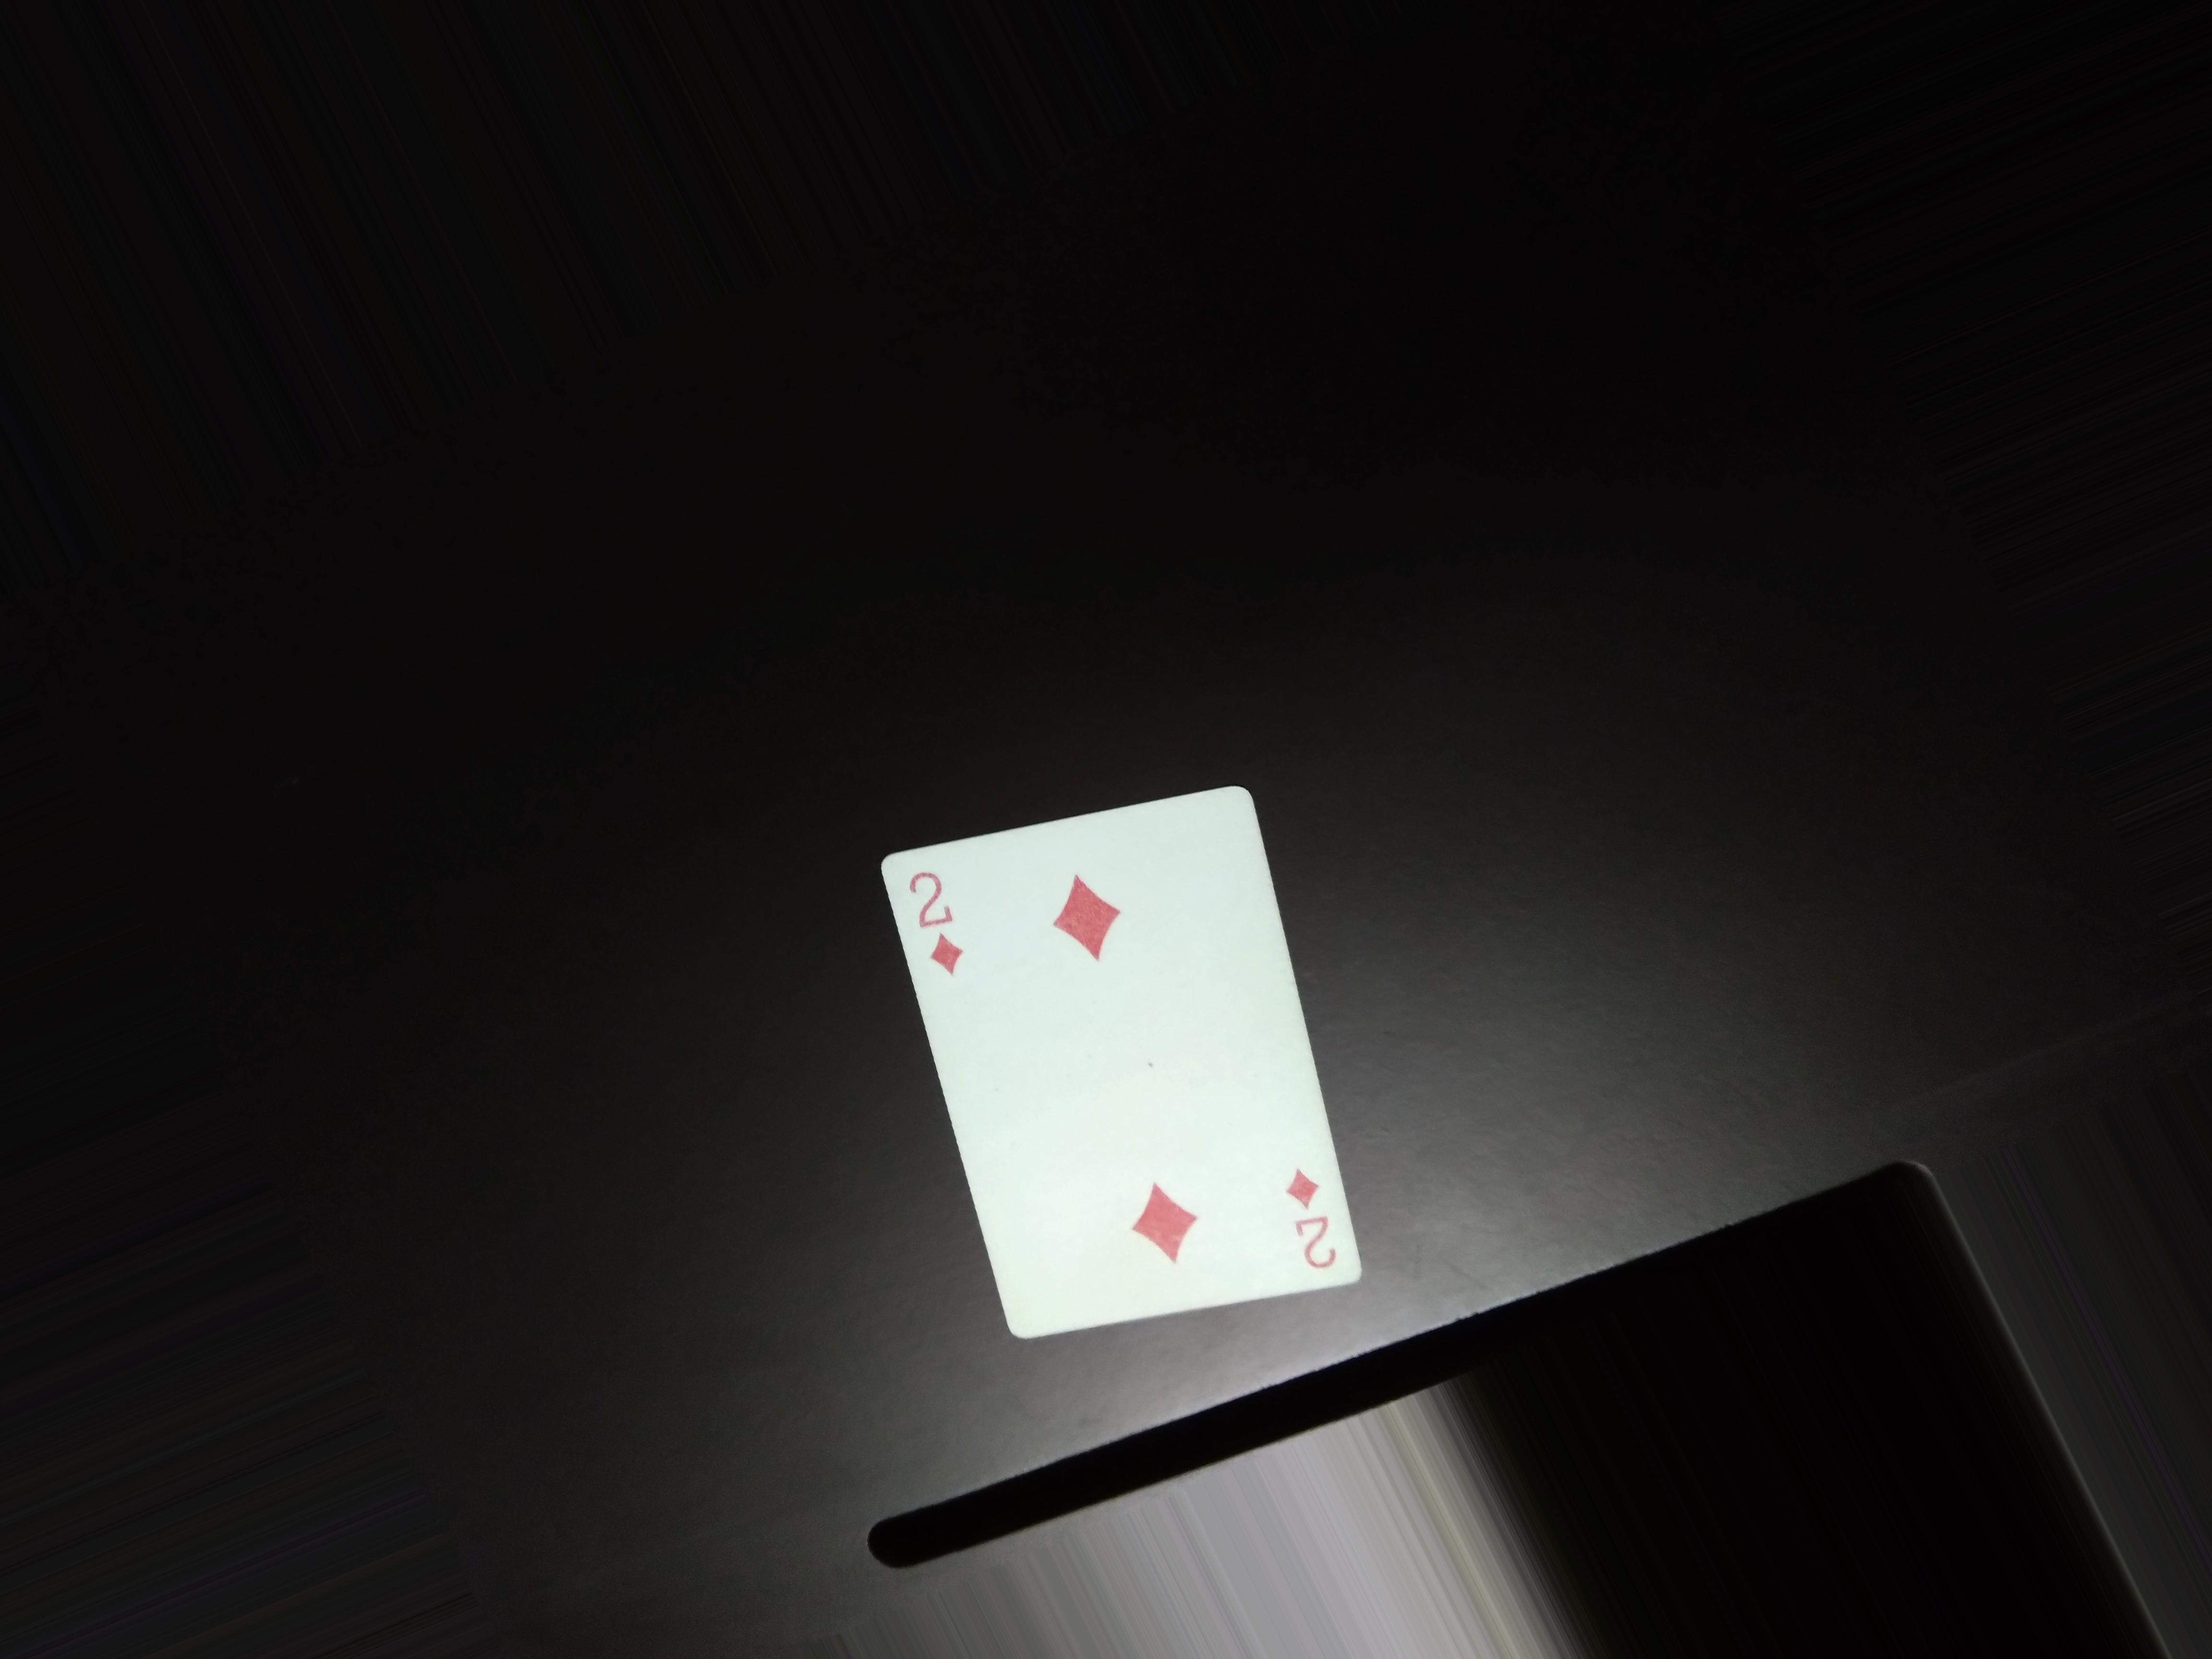2D: (1264, 1159, 1346, 1277)
